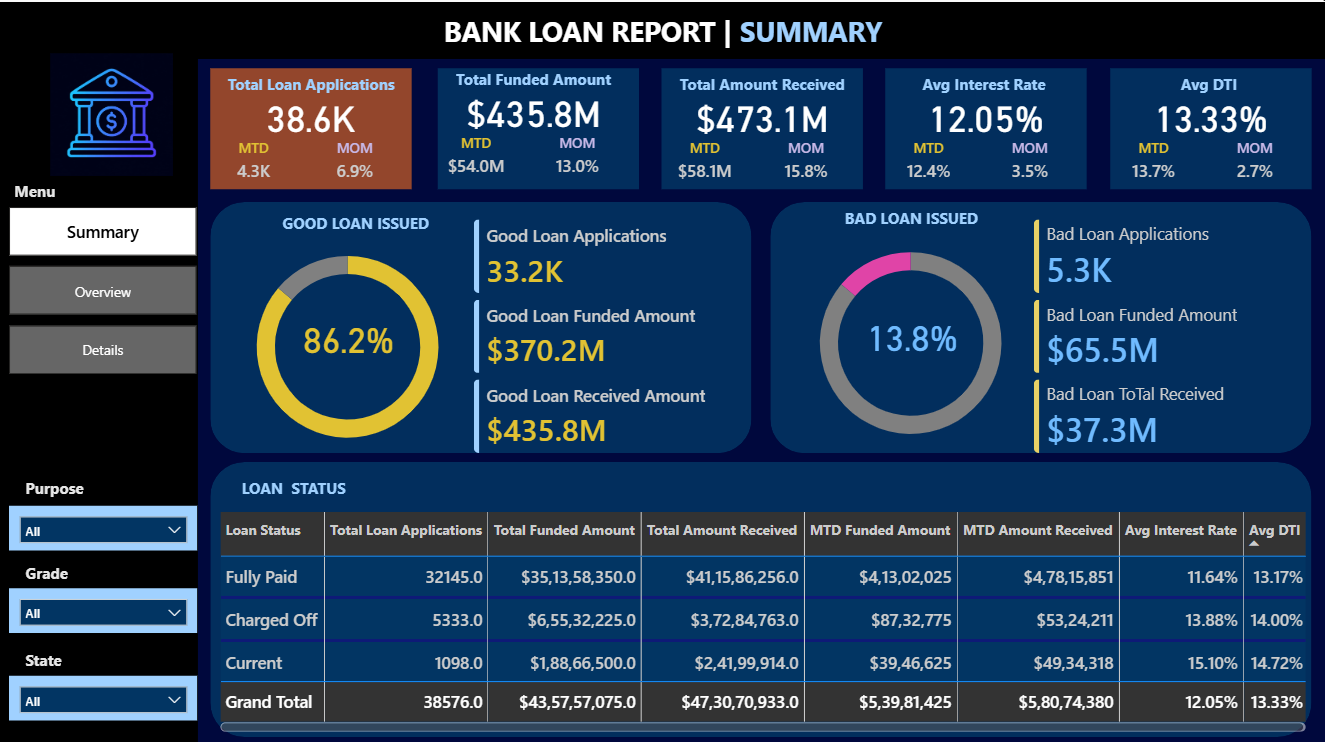

The page's visual inventory and layout, read from the dashboard file:
{"tool":"powerbi","page":{"name":"Summary","canvas":[1280,720],"ordinal":0},"visuals":[{"type":"shape","box":[0,54.8,192,665.1],"z":0},{"type":"shape","box":[203.4,63.8,194.8,116.9],"z":0,"group":"g1"},{"type":"shape","box":[423.8,63.2,194.2,117],"z":1000,"group":"g2"},{"type":"shape","box":[639.2,63.6,194.8,116.9],"z":1000,"group":"g3"},{"type":"shape","box":[855.6,63.6,194.8,116.9],"z":1000,"group":"g4"},{"type":"shape","box":[1072,63.8,194.8,116.9],"z":1000,"group":"g5"},{"type":"card","fields":{"Values":["Bank_Loan_data.Total Loan Applications"]},"box":[203.4,82.6,194.8,53.4],"z":1000,"group":"g1"},{"type":"shape","box":[203.9,193,522.4,242.5],"z":1000},{"type":"textbox","box":[203.4,63.8,194.8,33.2],"z":2000,"group":"g1"},{"type":"shape","box":[203.9,444,1062.9,265.4],"z":2000},{"type":"card","fields":{"Values":["Bank_Loan_data.Total Funded Amount"]},"box":[419.2,77.6,194.8,53.4],"z":3000,"group":"g2"},{"type":"card","fields":{"Values":["Bank_Loan_data.Total Amount Received"]},"box":[639.2,82.4,194.8,53.4],"z":3000,"group":"g3"},{"type":"card","fields":{"Values":["Bank_Loan_data.Avg Interest Rate"]},"box":[855.6,82.4,194.8,53.4],"z":3000,"group":"g4"},{"type":"card","fields":{"Values":["Bank_Loan_data.Avg DTI"]},"box":[1072,82.6,194.8,53.4],"z":3000,"group":"g5"},{"type":"card","title":"MTD","fields":{"Values":["Date Table.MTD Loan Applications"]},"box":[203.4,131.6,83.7,49.1],"z":3000,"group":"g1"},{"type":"donutChart","title":"GOOD LOAN ISSUED","fields":{"Category":["Bank_Loan_data.Good vs Bad Loan"],"Y":["Bank_Loan_data.Total Loan Applications"]},"box":[207.5,218.4,258.2,229.2],"z":3000},{"type":"shape","box":[0,0,1280,55],"z":4000},{"type":"card","title":"MOM","fields":{"Values":["Date Table.MOM Loan Applications"]},"box":[301.5,131.6,83.7,49.1],"z":4000,"group":"g1"},{"type":"textbox","box":[419.2,58.8,194.8,33.2],"z":5000,"group":"g2"},{"type":"textbox","box":[639.2,63.6,194.8,33.2],"z":5000,"group":"g3"},{"type":"textbox","box":[855.6,63.6,194.8,33.2],"z":5000,"group":"g4"},{"type":"textbox","box":[1072,63.8,194.8,33.2],"z":5000,"group":"g5"},{"type":"textbox","box":[246.1,197.9,196.6,33.8],"z":5000},{"type":"card","title":"MTD","fields":{"Values":["Date Table.MTD Funded Amount"]},"box":[419.2,126.6,83.7,49.1],"z":6000,"group":"g2"},{"type":"card","title":"MTD","fields":{"Values":["Date Table.MTD Total Amount Received"]},"box":[639.2,131.4,83.7,49.1],"z":6000,"group":"g3"},{"type":"card","title":"MTD","fields":{"Values":["Date Table.MTD Avg Interest Rate"]},"box":[855.6,131.4,83.7,49.1],"z":6000,"group":"g4"},{"type":"card","title":"MTD","fields":{"Values":["Date Table.MTD Avg DTI"]},"box":[1072,131.6,83.7,49.1],"z":6000,"group":"g5"},{"type":"textbox","box":[20.2,453,76.5,30.3],"z":6000},{"type":"textbox","box":[411.2,4.3,458.8,50.5],"z":7000},{"type":"card","title":"MOM","fields":{"Values":["Date Table.MOM Funded Amount"]},"box":[517.3,126.6,83.7,49.1],"z":7000,"group":"g2"},{"type":"card","title":"MOM","fields":{"Values":["Date Table.MOM Total Amount Received"]},"box":[737.3,131.4,83.7,49.1],"z":7000,"group":"g3"},{"type":"card","title":"MOM","fields":{"Values":["Date Table.MOM Avg Interest Rate"]},"box":[953.7,131.4,83.7,49.1],"z":7000,"group":"g4"},{"type":"card","title":"MOM","fields":{"Values":["Date Table.MOM Avg DTI"]},"box":[1170.1,131.6,83.7,49.1],"z":7000,"group":"g5"},{"type":"group","id":"g1","title":"Group 1","box":[203.4,63.8,194.8,116.9],"z":8000},{"type":"card","fields":{"Values":["Bank_Loan_data.Good Loan %"]},"box":[267.8,296.8,138.7,54.3],"z":9000},{"type":"group","id":"g2","title":"Group 2","box":[419.2,58.8,199.1,121.9],"z":10000},{"type":"group","id":"g3","title":"Group 2","box":[639.2,63.6,195.4,117],"z":11000},{"type":"group","id":"g4","title":"Group 2","box":[855.6,63.6,195.4,117],"z":12000},{"type":"group","id":"g5","title":"Group 2","box":[1072,63.8,194.8,116.9],"z":13000},{"type":"shape","box":[744.4,193,522.4,242.5],"z":14000},{"type":"cardVisual","fields":{"Data":["Bank_Loan_data.Good Loan Applications","Bank_Loan_data.Good Loan Funded Amount","Bank_Loan_data.Good Loan Total Amount Received"]},"box":[441.5,193.3,284.2,259.7],"z":15000},{"type":"textbox","box":[783,193,195.4,33.8],"z":16000},{"type":"donutChart","title":"GOOD LOAN ISSUED","fields":{"Category":["Bank_Loan_data.Good vs Bad Loan"],"Y":["Bank_Loan_data.Total Loan Applications"]},"box":[754,214.7,252.1,229.2],"z":17000},{"type":"card","fields":{"Values":["Bank_Loan_data.Bad Loan %"]},"box":[811.9,295.6,138.7,54.3],"z":18000},{"type":"cardVisual","fields":{"Data":["Bank_Loan_data.Bad Loan Applications","Bank_Loan_data.Bad Loan Funded Amount","Bank_Loan_data.Bad Loan ToTal Received"]},"box":[982.5,193.3,284.2,259.7],"z":19000},{"type":"tableEx","title":"LOAN STATUS","fields":{"Values":["Bank_Loan_data.loan_status","Bank_Loan_data.Total Loan Applications","Bank_Loan_data.Total Funded Amount","Bank_Loan_data.Total Amount Received","Date Table.MTD Funded Amount","Date Table.MTD Total Amount Received","Bank_Loan_data.Avg Interest Rate","Bank_Loan_data.Avg DTI"]},"box":[207.8,487.7,1059,222.2],"z":20000},{"type":"textbox","box":[229.4,453,125.5,33.2],"z":21000},{"type":"slicer","fields":{"Values":["Bank_Loan_data.purpose"]},"box":[10.1,486.2,181.8,43.3],"z":22000},{"type":"textbox","box":[20.2,535.3,76.5,30.3],"z":23000},{"type":"slicer","fields":{"Values":["Bank_Loan_data.grade"]},"box":[10.1,565.6,181.8,43.3],"z":24000},{"type":"textbox","box":[20.2,620.4,76.5,30.3],"z":25000},{"type":"slicer","fields":{"Values":["Bank_Loan_data.address_state"]},"box":[10.1,650.7,181.8,43.3],"z":26000},{"type":"pageNavigator","box":[10.1,197.7,181.8,163],"z":27000},{"type":"textbox","box":[10.1,167.4,76.5,30.3],"z":28000},{"type":"image","box":[49.1,49.1,118.3,118.3],"z":28001}]}

Visuals, with their boxes in screenshot pixels (x1, y1, x2, y2), scaled from the page's 1280x720 canvas onto the 1325x742 screenshot:
shape: (x1=0, y1=56, x2=199, y2=741)
shape: (x1=211, y1=66, x2=412, y2=186)
shape: (x1=439, y1=65, x2=640, y2=186)
shape: (x1=662, y1=66, x2=863, y2=186)
shape: (x1=886, y1=66, x2=1087, y2=186)
shape: (x1=1110, y1=66, x2=1311, y2=186)
card - Bank_Loan_data.Total Loan Applications: (x1=211, y1=85, x2=412, y2=140)
shape: (x1=211, y1=199, x2=752, y2=449)
textbox: (x1=211, y1=66, x2=412, y2=100)
shape: (x1=211, y1=458, x2=1311, y2=731)
card - Bank_Loan_data.Total Funded Amount: (x1=434, y1=80, x2=636, y2=135)
card - Bank_Loan_data.Total Amount Received: (x1=662, y1=85, x2=863, y2=140)
card - Bank_Loan_data.Avg Interest Rate: (x1=886, y1=85, x2=1087, y2=140)
card - Bank_Loan_data.Avg DTI: (x1=1110, y1=85, x2=1311, y2=140)
"MTD" card: (x1=211, y1=136, x2=297, y2=186)
"GOOD LOAN ISSUED" donutChart: (x1=215, y1=225, x2=482, y2=461)
shape: (x1=0, y1=0, x2=1324, y2=57)
"MOM" card: (x1=312, y1=136, x2=399, y2=186)
textbox: (x1=434, y1=61, x2=636, y2=95)
textbox: (x1=662, y1=66, x2=863, y2=100)
textbox: (x1=886, y1=66, x2=1087, y2=100)
textbox: (x1=1110, y1=66, x2=1311, y2=100)
textbox: (x1=255, y1=204, x2=458, y2=239)
"MTD" card: (x1=434, y1=130, x2=521, y2=181)
"MTD" card: (x1=662, y1=135, x2=748, y2=186)
"MTD" card: (x1=886, y1=135, x2=972, y2=186)
"MTD" card: (x1=1110, y1=136, x2=1196, y2=186)
textbox: (x1=21, y1=467, x2=100, y2=498)
textbox: (x1=426, y1=4, x2=901, y2=56)
"MOM" card: (x1=535, y1=130, x2=622, y2=181)
"MOM" card: (x1=763, y1=135, x2=850, y2=186)
"MOM" card: (x1=987, y1=135, x2=1074, y2=186)
"MOM" card: (x1=1211, y1=136, x2=1298, y2=186)
"Group 1" group: (x1=211, y1=66, x2=412, y2=186)
card - Bank_Loan_data.Good Loan %: (x1=277, y1=306, x2=421, y2=362)
"Group 2" group: (x1=434, y1=61, x2=640, y2=186)
"Group 2" group: (x1=662, y1=66, x2=864, y2=186)
"Group 2" group: (x1=886, y1=66, x2=1088, y2=186)
"Group 2" group: (x1=1110, y1=66, x2=1311, y2=186)
shape: (x1=771, y1=199, x2=1311, y2=449)
cardVisual - Bank_Loan_data.Good Loan Applications x Bank_Loan_data.Good Loan Funded Amount: (x1=457, y1=199, x2=751, y2=467)
textbox: (x1=811, y1=199, x2=1013, y2=234)
"GOOD LOAN ISSUED" donutChart: (x1=781, y1=221, x2=1041, y2=457)
card - Bank_Loan_data.Bad Loan %: (x1=840, y1=305, x2=984, y2=361)
cardVisual - Bank_Loan_data.Bad Loan Applications x Bank_Loan_data.Bad Loan Funded Amount: (x1=1017, y1=199, x2=1311, y2=467)
"LOAN STATUS" tableEx: (x1=215, y1=503, x2=1311, y2=732)
textbox: (x1=237, y1=467, x2=367, y2=501)
slicer - Bank_Loan_data.purpose: (x1=10, y1=501, x2=199, y2=546)
textbox: (x1=21, y1=552, x2=100, y2=583)
slicer - Bank_Loan_data.grade: (x1=10, y1=583, x2=199, y2=628)
textbox: (x1=21, y1=639, x2=100, y2=671)
slicer - Bank_Loan_data.address_state: (x1=10, y1=671, x2=199, y2=715)
pageNavigator: (x1=10, y1=204, x2=199, y2=372)
textbox: (x1=10, y1=173, x2=90, y2=204)
image: (x1=51, y1=51, x2=173, y2=173)
